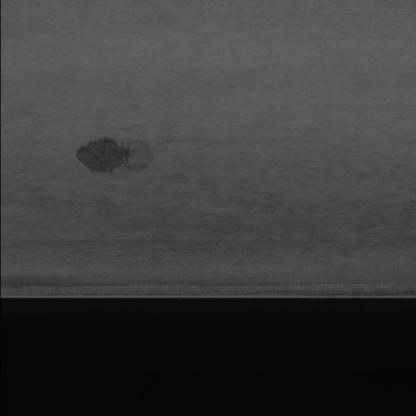oil_spot: (76, 139, 154, 172)
silk_spot: (27, 180, 402, 272)
